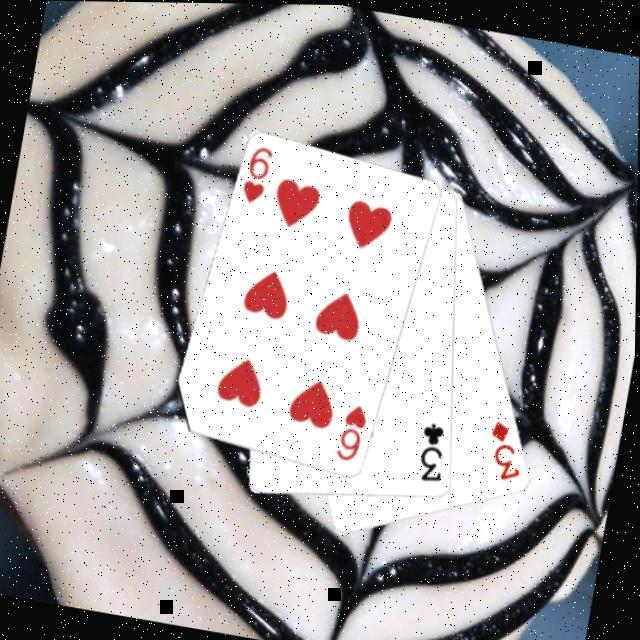3C: (415, 416, 458, 484)
3D: (484, 413, 536, 484)
6H: (240, 140, 280, 207), (336, 398, 376, 464)
